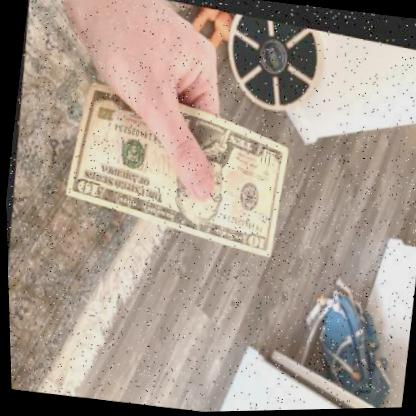ten-front: (61, 79, 287, 254)
